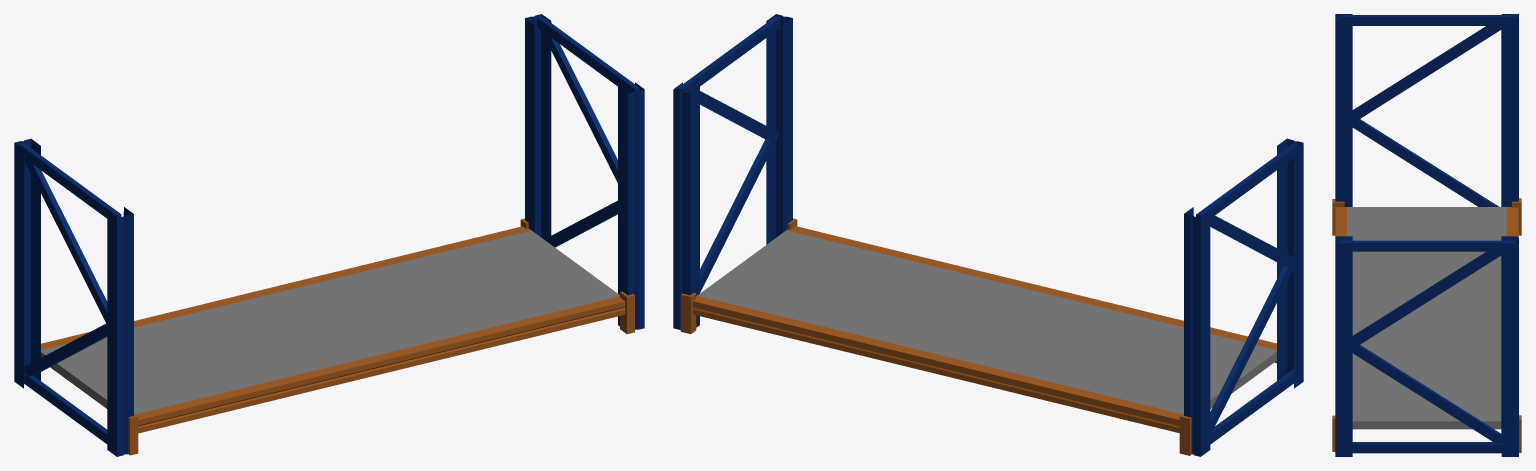
The model's file is colorshelf_big.dae.
3 views of the same model, side by side, from view 1: azimuth 30°, elevation 25°; view 2: azimuth 150°, elevation 25°; view 3: azimuth 270°, elevation 25° (orthographic). The views are drawn at different scales.
Parts seen in each view (by area): view 1: mezanine racking.011; view 2: mezanine racking.011; view 3: mezanine racking.011.
Part boxes in pixels (<box>): mezanine racking.011: <box>14,14,644,456</box>; mezanine racking.011: <box>673,14,1303,456</box>; mezanine racking.011: <box>1332,14,1521,456</box>.
Size of the model in its own units: 2.5 by 0.8723 by 1.08.
